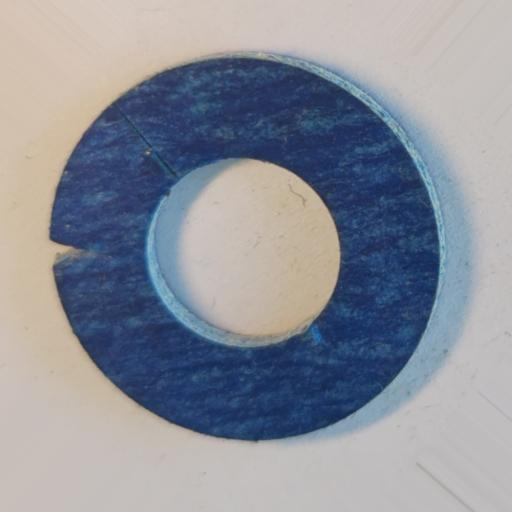defect: (114, 103, 181, 180), (48, 235, 108, 267)
